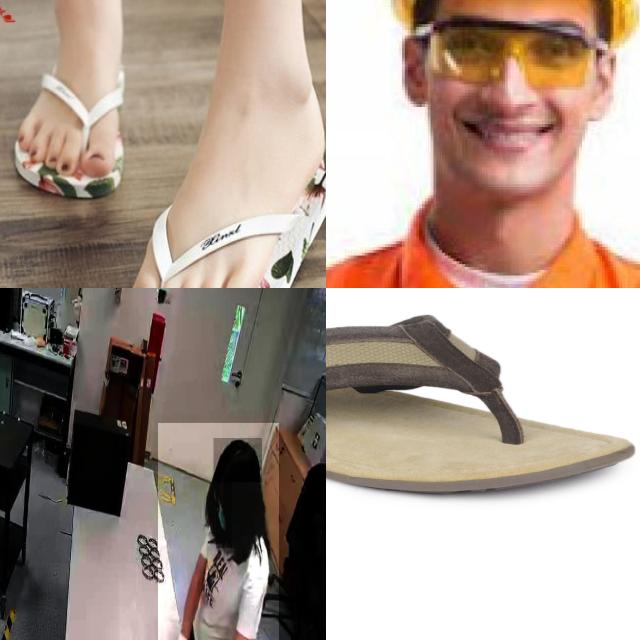No_Ear-Protection: (394, 32, 429, 115), (598, 50, 616, 127)
Sandals: (11, 19, 326, 288), (326, 313, 639, 497)
face_mask: (216, 482, 232, 548)
face_nomask: (430, 60, 590, 196)
glasses: (414, 18, 608, 88)
hand_glove: (163, 622, 190, 640)
head_nohelmet: (214, 438, 262, 483)
person: (158, 423, 279, 640)
